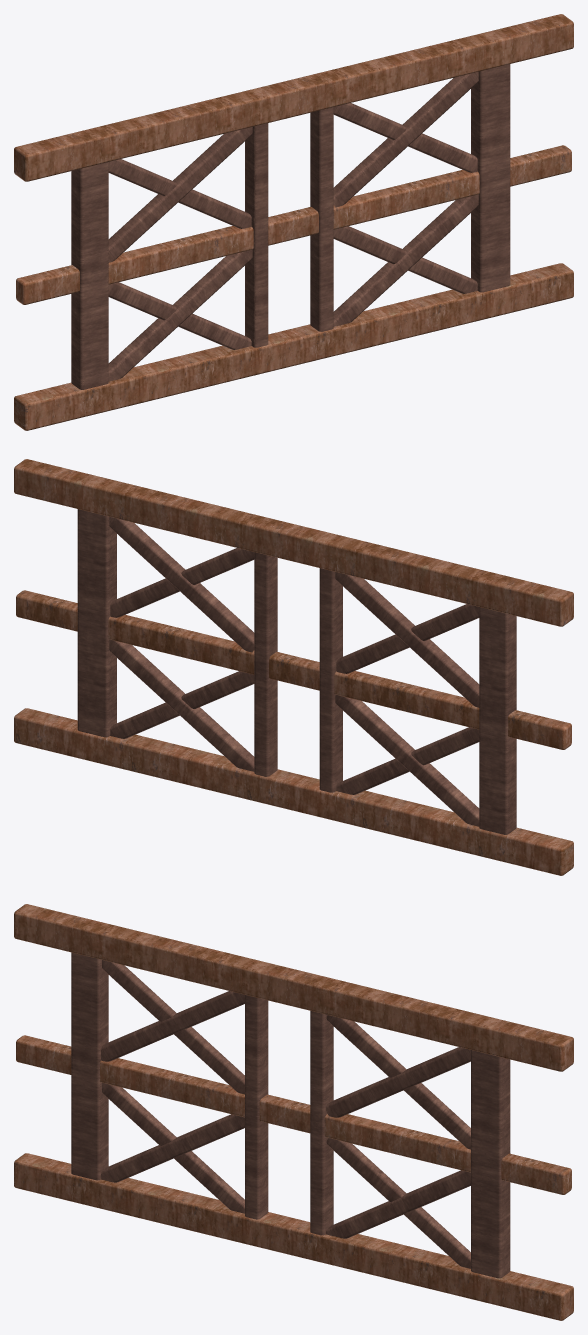
Rendered from RC_Small_Building_10_Fence_01.gltf.
3 views of the same model, one above another, from view 1: azimuth 30°, elevation 25°; view 2: azimuth 150°, elevation 25°; view 3: azimuth 330°, elevation 25° (orthographic).
Visible parts, largest first — view 1: RC_Small_Building_10_Fence_01(Clone); view 2: RC_Small_Building_10_Fence_01(Clone); view 3: RC_Small_Building_10_Fence_01(Clone).
Part boxes in pixels (x1,y1,x2,y2): RC_Small_Building_10_Fence_01(Clone): [14, 14, 573, 430]; RC_Small_Building_10_Fence_01(Clone): [14, 459, 573, 875]; RC_Small_Building_10_Fence_01(Clone): [14, 904, 573, 1320].
Bounding box in the file's own units: 1.77 × 0.8497 × 0.0706.
2 materials, 2 textured.
